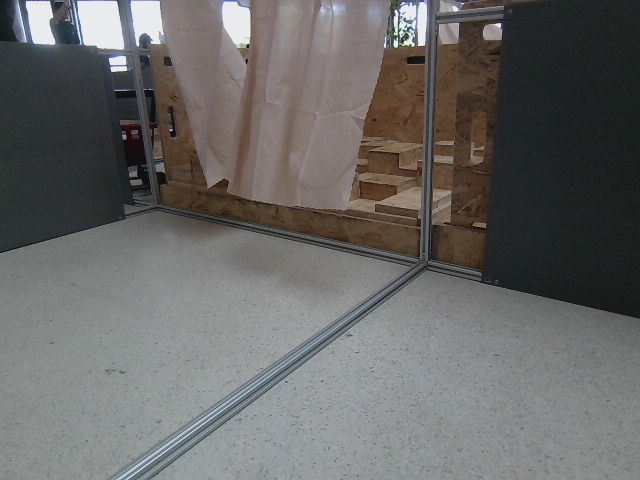curtain: (192, 0, 416, 202)
